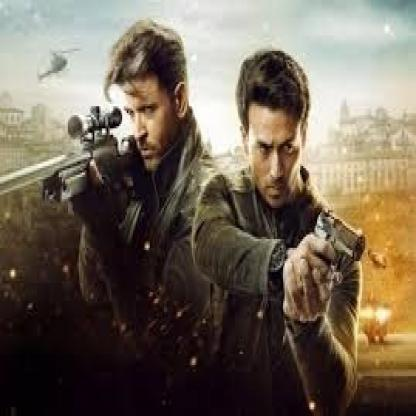Gun: (0, 91, 139, 217)
Pistol: (306, 197, 368, 276)
